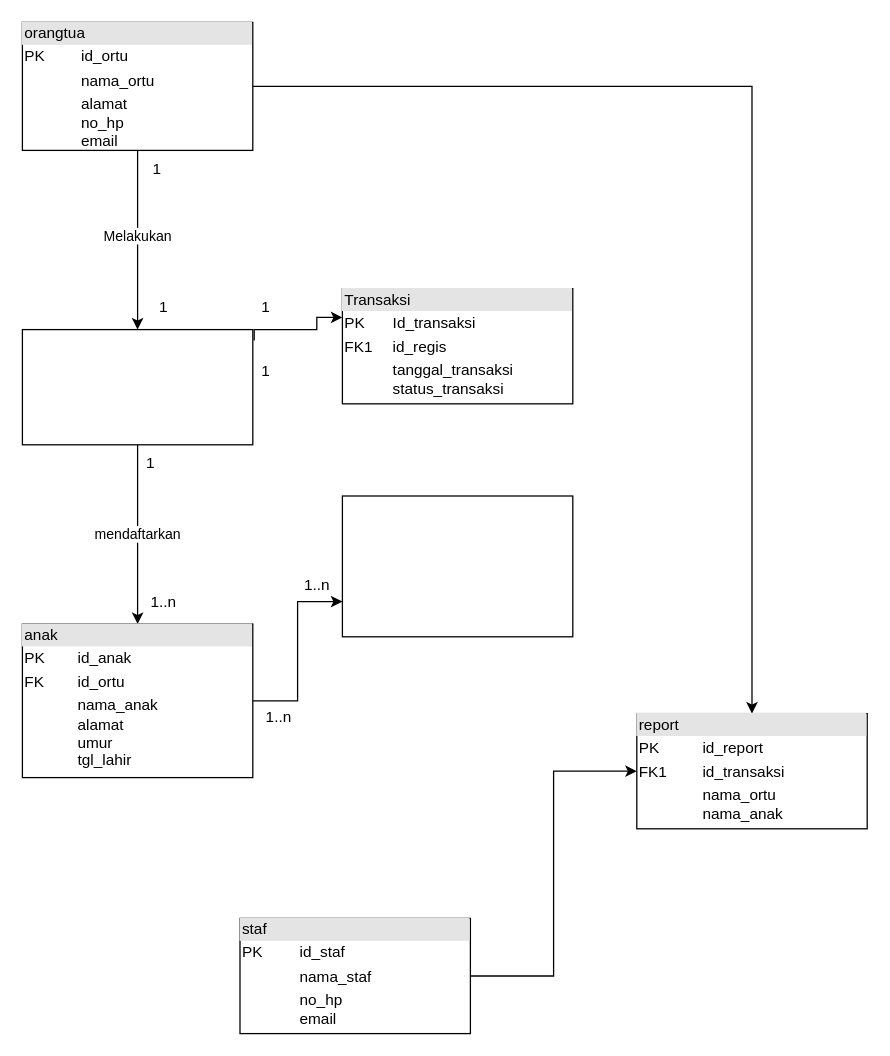
This 890x1056 diagram has some shape labels left out. The shapes that lost their labels are listed below. From the top down, each one's box as (x1, y1, x2, y2) in pixels, then its label:
(21, 328, 253, 445): registrasi PK id_regis FK1 id_ortu nama_ortu tanggal_registrasi
(341, 495, 573, 637): paket PK id_paket FK1 id_regis FK2 id_ortu jenis_paket biaya_paket
